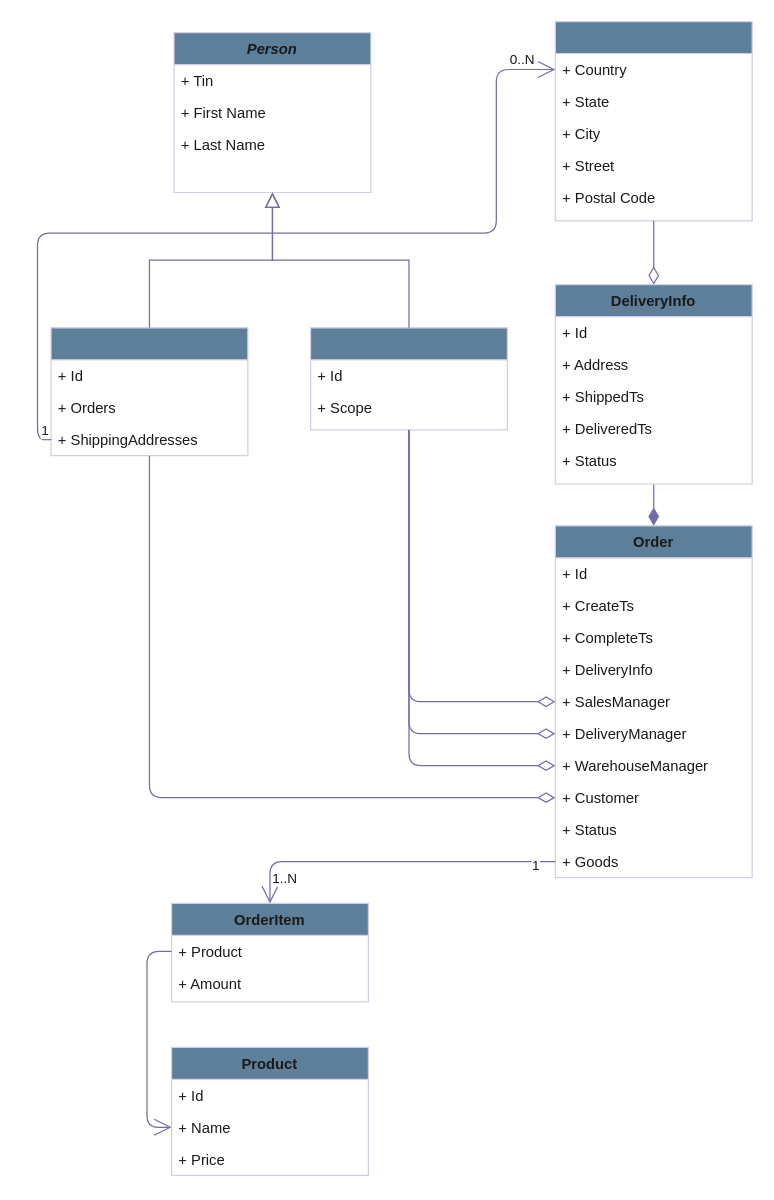
The diagram is 774 pixels wide and 1200 high, and some of its shapes have lost their labels. Here are the shapes that lost their labels. From the top down, the box of each, then its label:
(554, 20, 752, 221): Address
(50, 327, 248, 456): Customer
(309, 327, 507, 430): Manager
